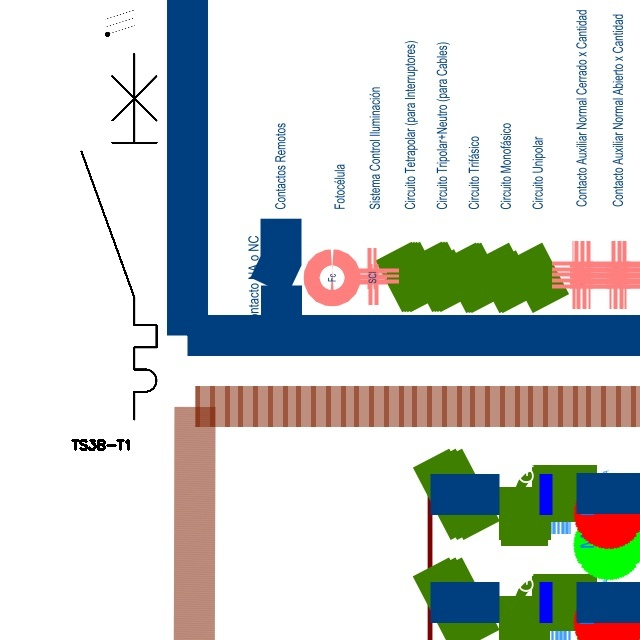interruptor_termomagnetico: (72, 44, 166, 428)
